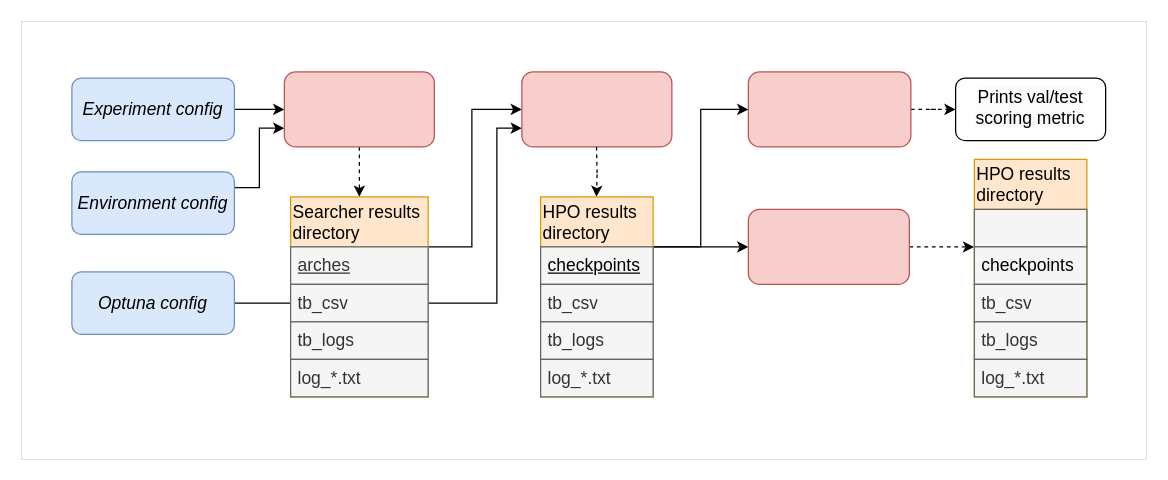
Image size: 1168x480. Some labels were removed from this diagram. Here are the shapes that lost their labels. From the top down, the centre of each, then its label:
the point at 358,109: search.py
the point at 596,109: train_final.py
the point at 829,109: eval_local_test.py
the point at 828,246: eval_kaggle.py
the point at 1030,227: submissions
